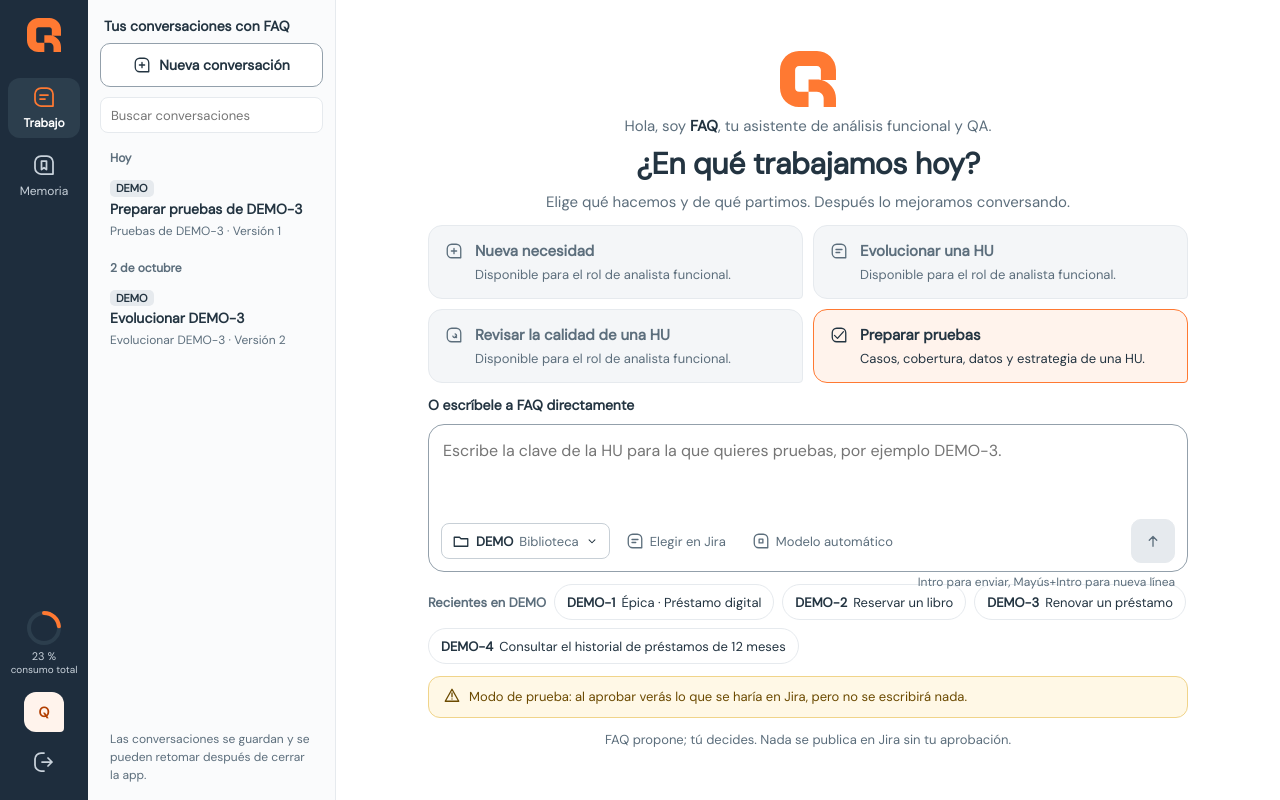
QA 4 · Recibo › *Volver a la suite* vuelve a Iterar la suite
Click the button "Preparar pruebas de DEMO-3" at (212, 210), box x1=100 y1=171 x2=323 y2=248
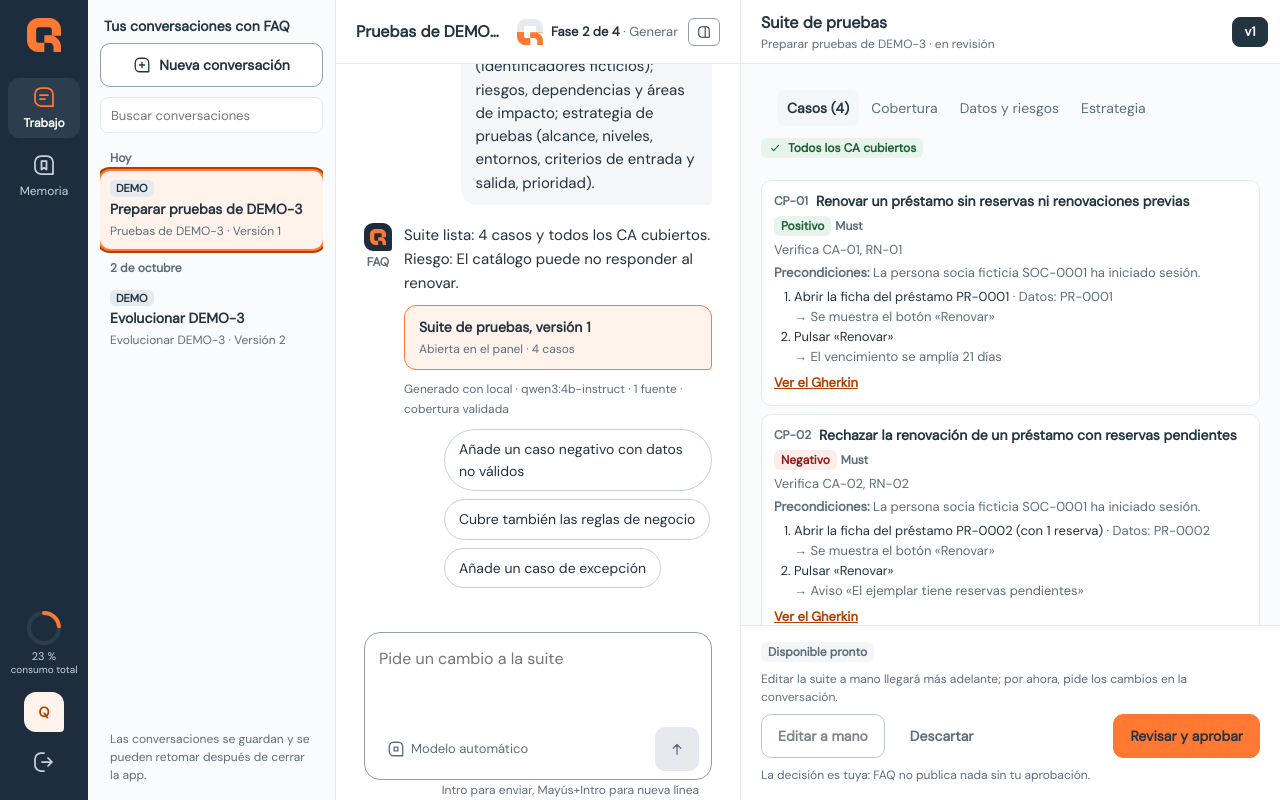
expect the element "Suite de pruebas" is shown: met, box x1=740 y1=0 x2=1279 y2=799
Click the button "Revisar y aprobar" at (1187, 736), box x1=1114 y1=714 x2=1260 y2=758
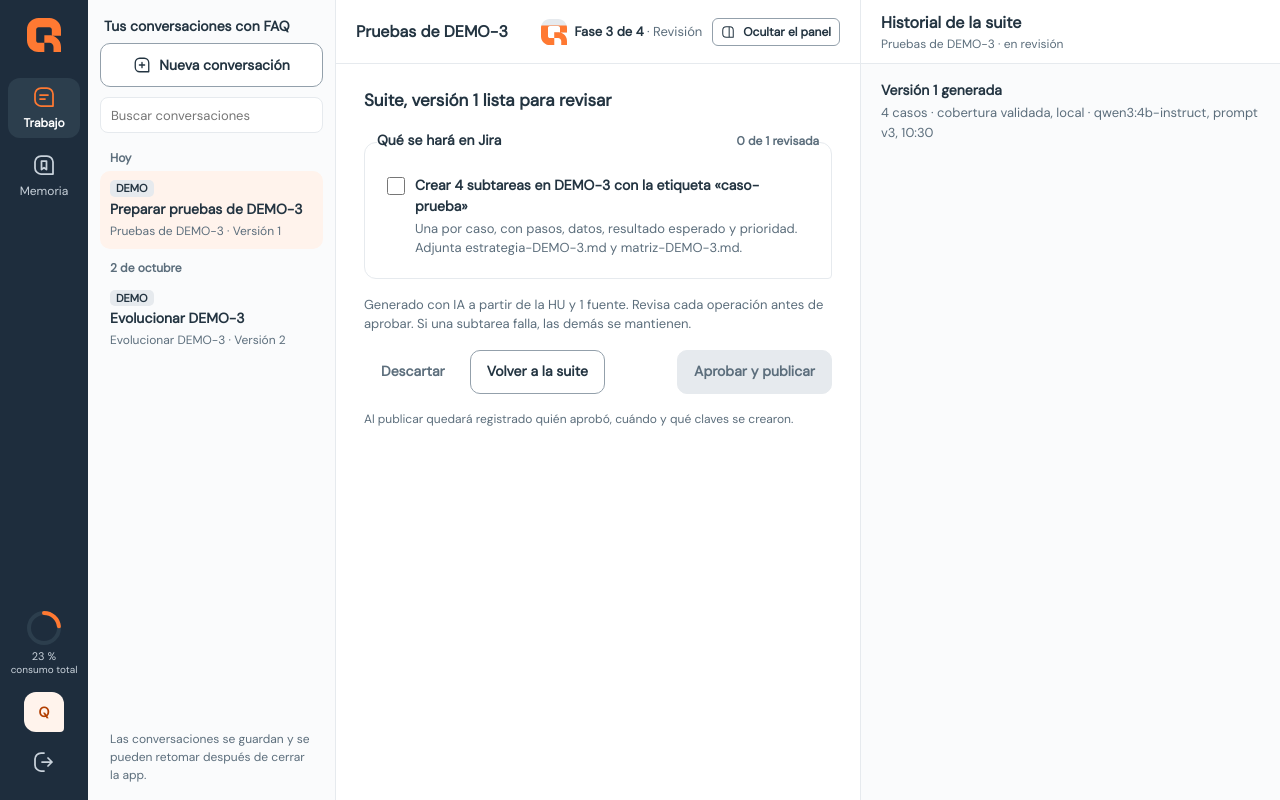
Click the button "Volver a la suite" at (537, 372), box x1=470 y1=350 x2=605 y2=394
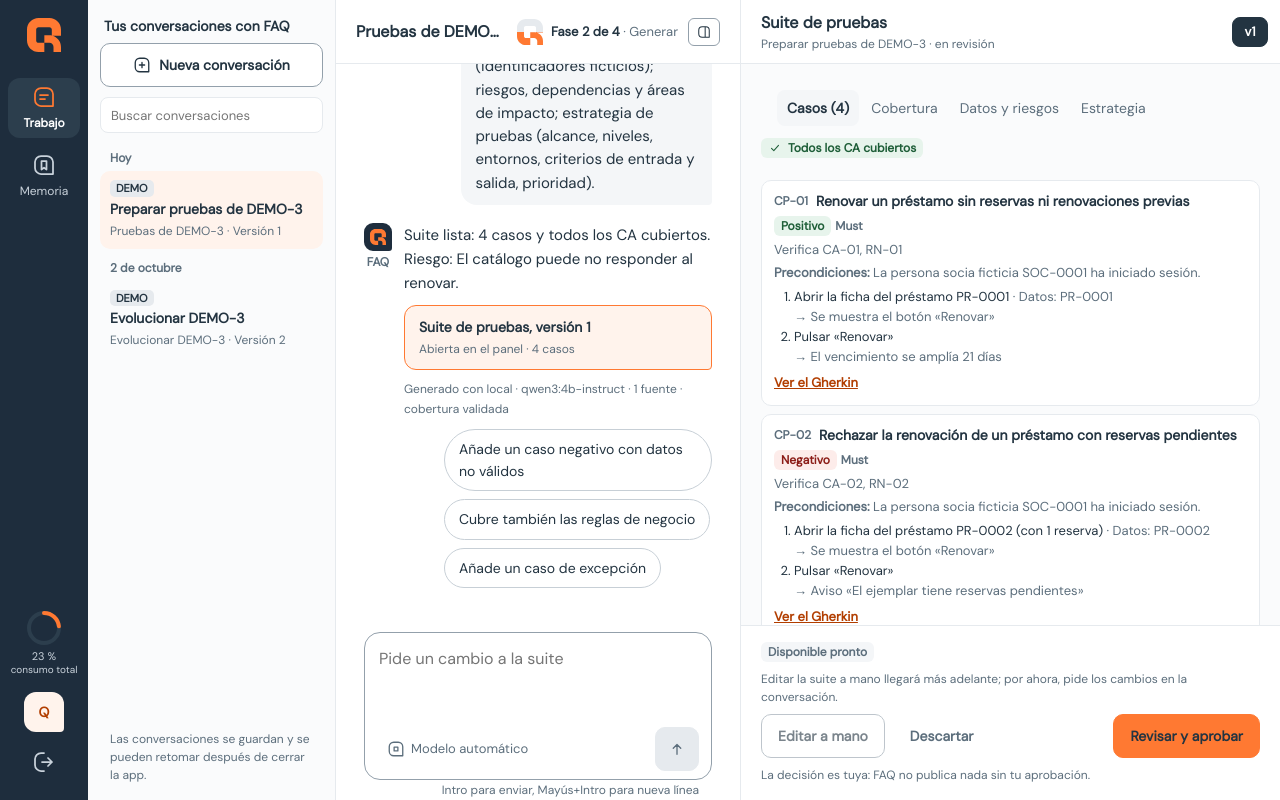
expect the element "Suite de pruebas" is shown: met, box x1=740 y1=0 x2=1279 y2=799
